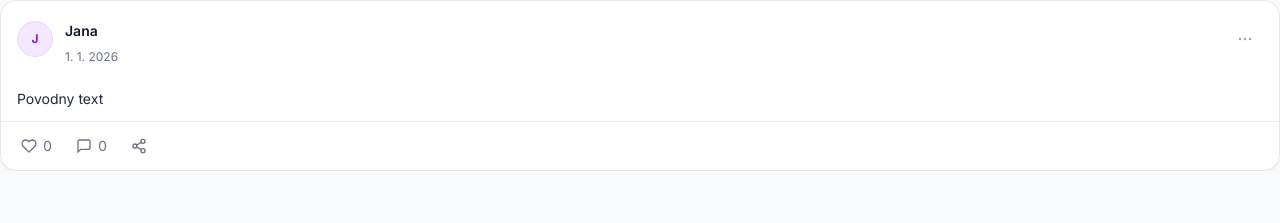
Test case: ponuka úpravy › offers Edit on my own post
Click the button with test id "feed-post-menu-trigger".
click(1245, 39)  # box [1227, 21, 1263, 57]
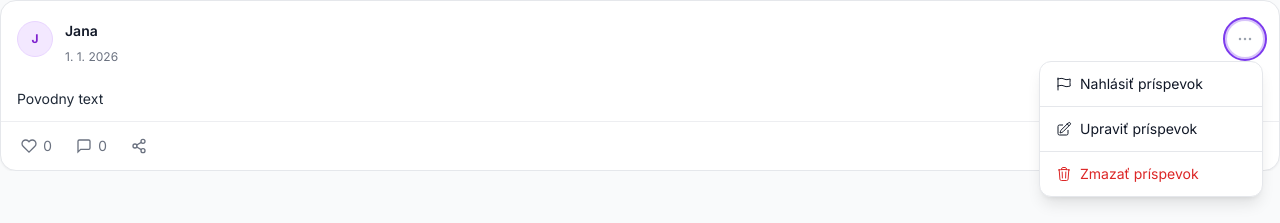
expect the menu item with test id "feed-post-edit" is shown: met, box [1040, 106, 1262, 151]
